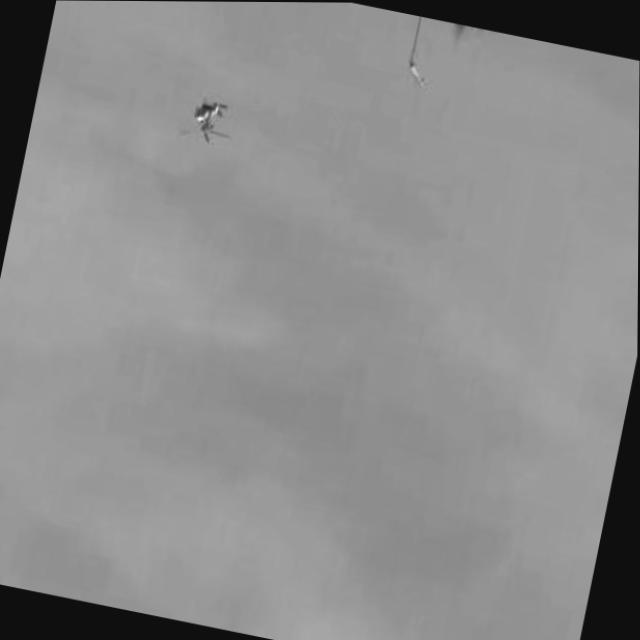helikopter: (173, 83, 243, 157)
